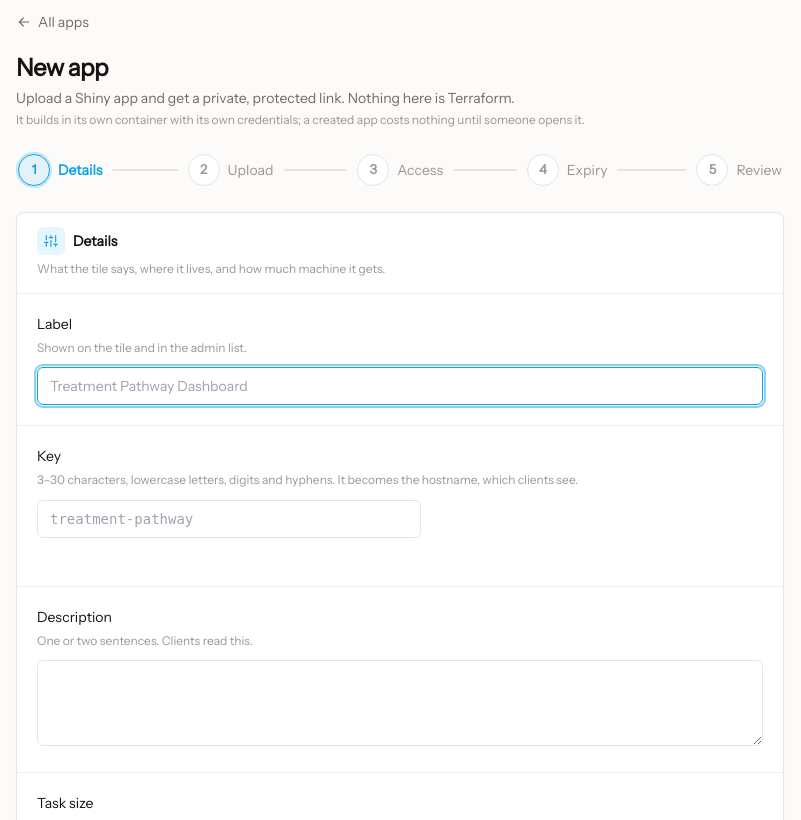
Test: NewAppWizard — key availability › repeats the API’s refusal verbatim, denylist wording and all
Type "tarpeyo-uptake" into the field named "Key" at point(229, 518), box [37,500,421,538]
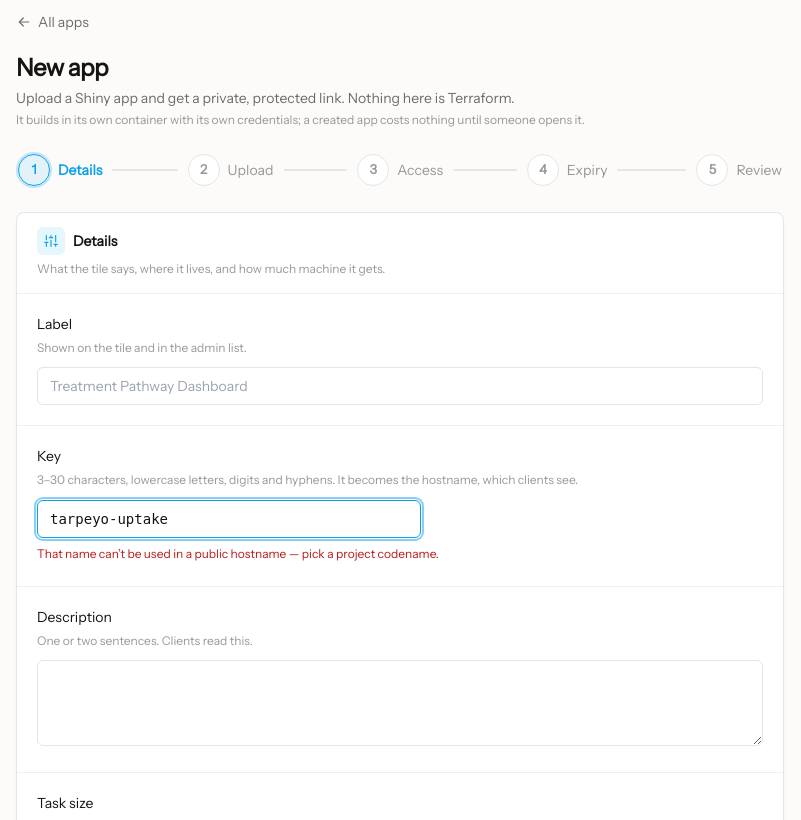
Now the text "That name can’t be used in a public hostname — pick a project codename." is shown, box [37,546,439,560]
